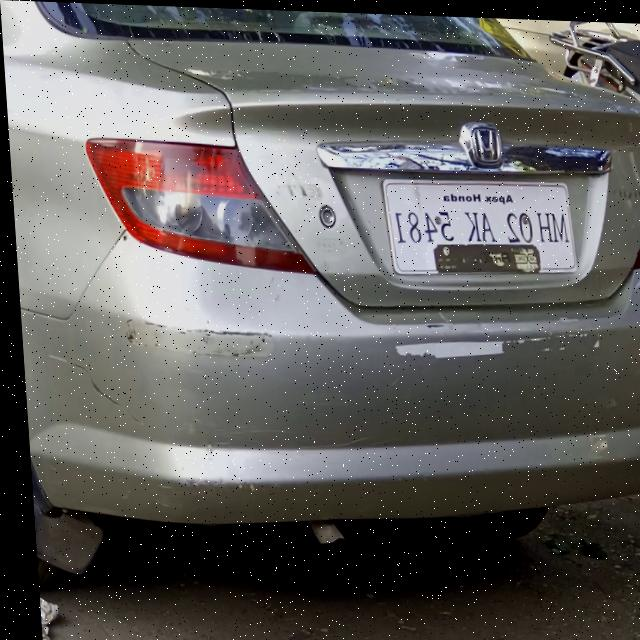plate: (378, 173, 574, 276)
